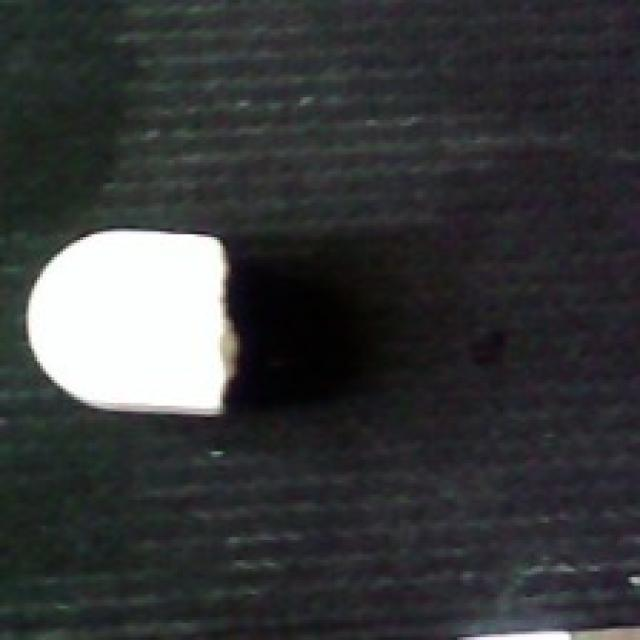defected: (20, 214, 246, 423)
